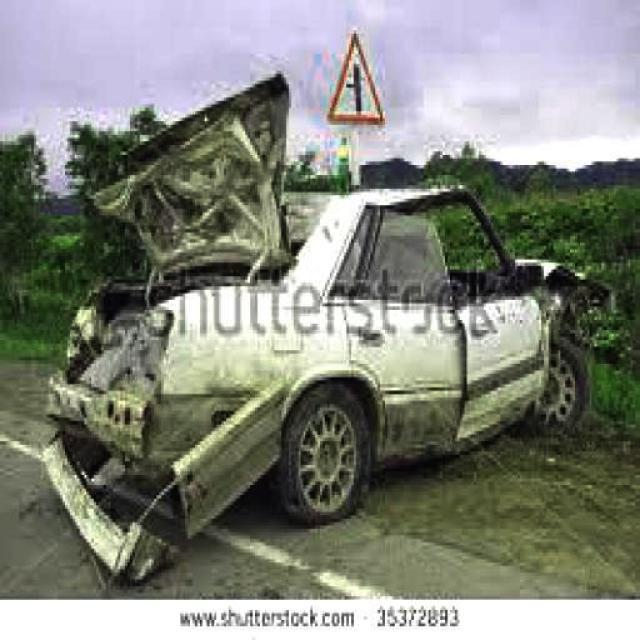car damage: (40, 68, 294, 579), (458, 252, 614, 452)
